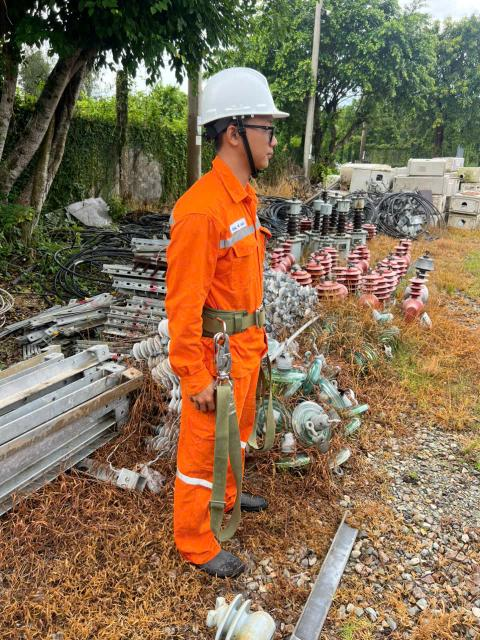harness: (182, 295, 290, 338)
helmet: (184, 41, 290, 143)
shoes: (176, 521, 249, 592), (205, 476, 278, 522)
